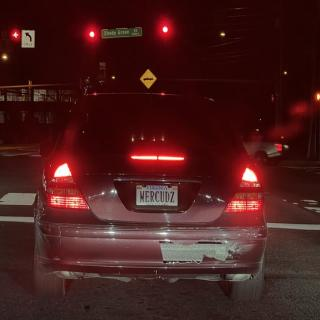license: (135, 184, 180, 211)
